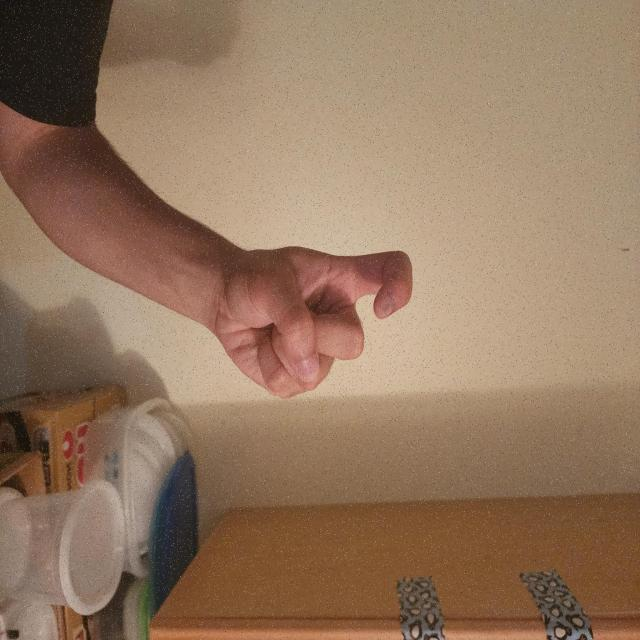X: (342, 298, 464, 568)
